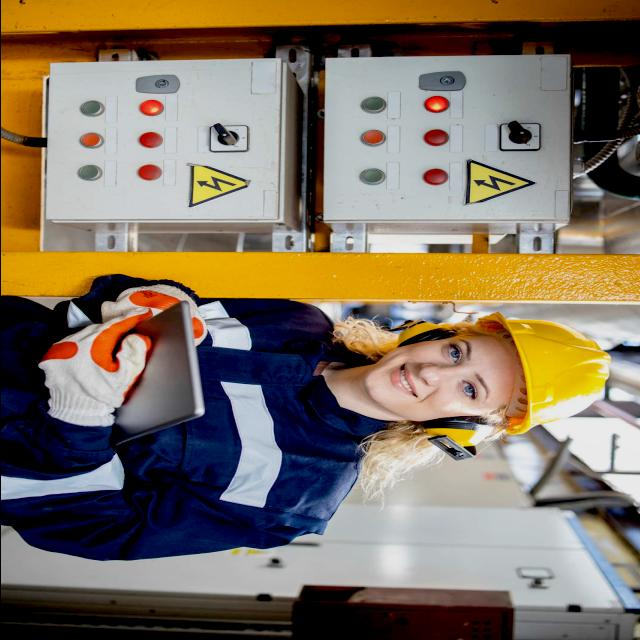Ear Muffs: (391, 308, 464, 356), (418, 414, 500, 450)
Gloves: (36, 313, 155, 427), (97, 279, 207, 355)
Hard Hat: (469, 310, 615, 452)
